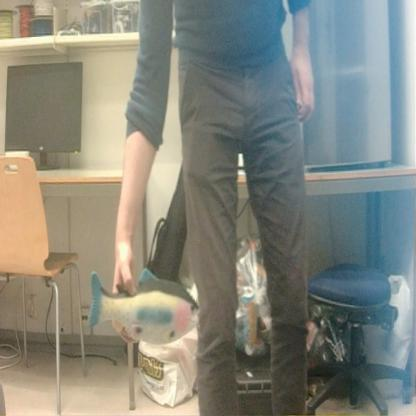rubberfish: (85, 265, 201, 351)
